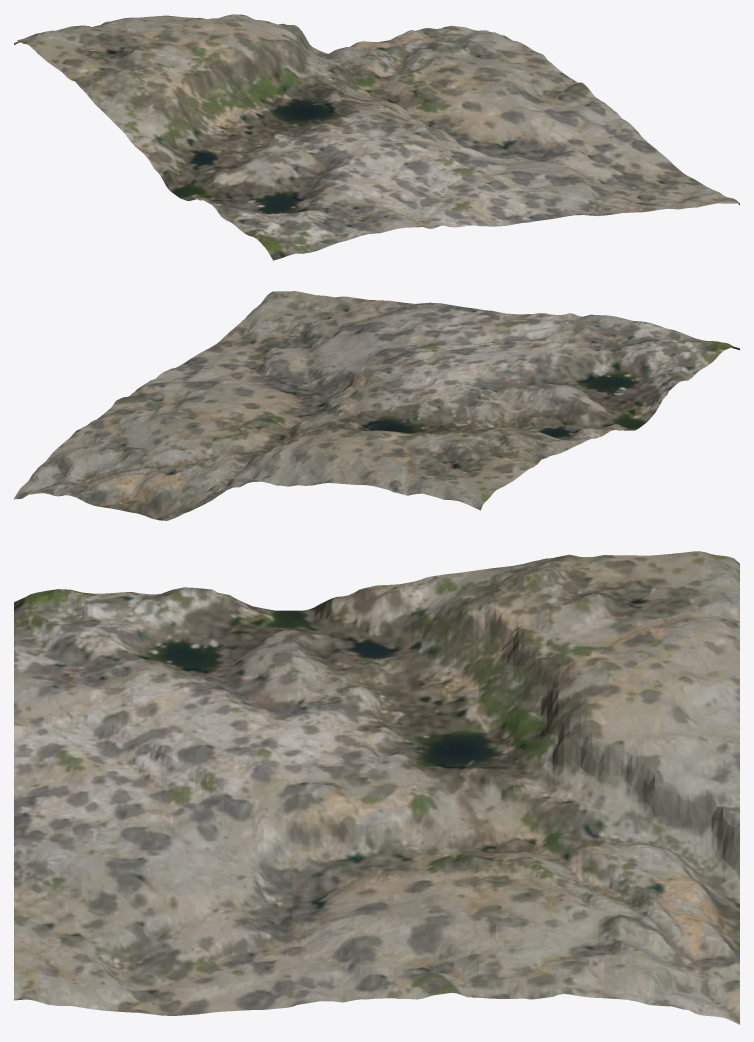
3 renders of one model, top to bottom at view 1: azimuth 30°, elevation 25°; view 2: azimuth 150°, elevation 25°; view 3: azimuth 270°, elevation 25°, orthographic. The views are drawn at different scales.
Size of the model in its own units: 250 by 60.18 by 241.
Materials: 1 (1 with a texture image).
